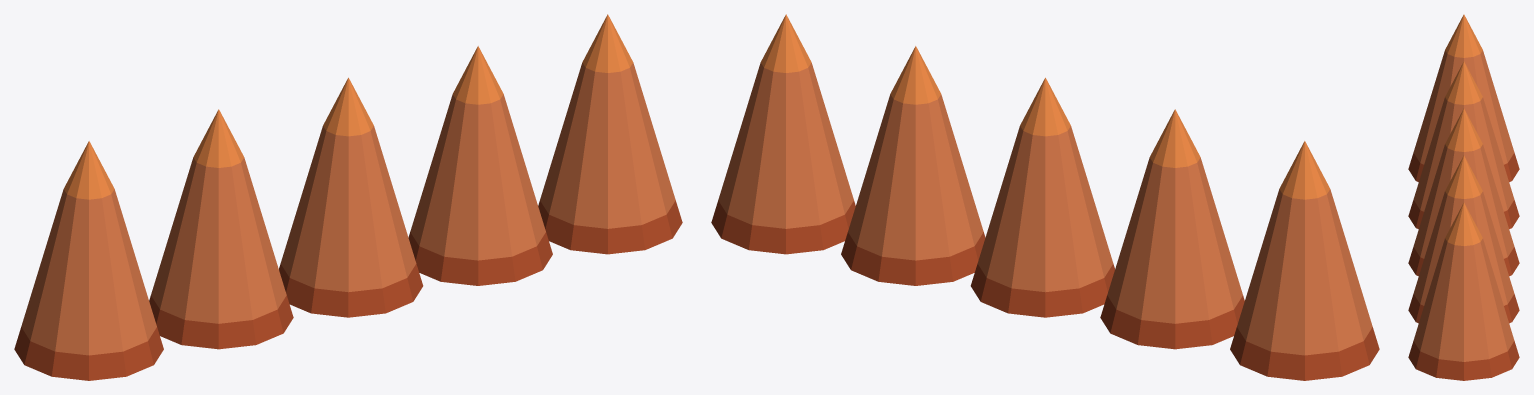
File: ESPINHOS PACK 5.fbx
The picture shows the model from 3 angles, left to right: view 1: azimuth 30°, elevation 25°; view 2: azimuth 150°, elevation 25°; view 3: azimuth 270°, elevation 25°; orthographic projection. The views are drawn at different scales.
Visible parts, largest first — view 1: Circle.001; view 2: Circle.001; view 3: Circle.001.
Part boxes in pixels (x1,y1,x2,y2): Circle.001: (14, 14, 682, 380); Circle.001: (711, 14, 1379, 380); Circle.001: (1408, 14, 1519, 380).
Bounding box in the file's own units: 189 × 58.05 × 37.73.
1 material, 1 textured.
